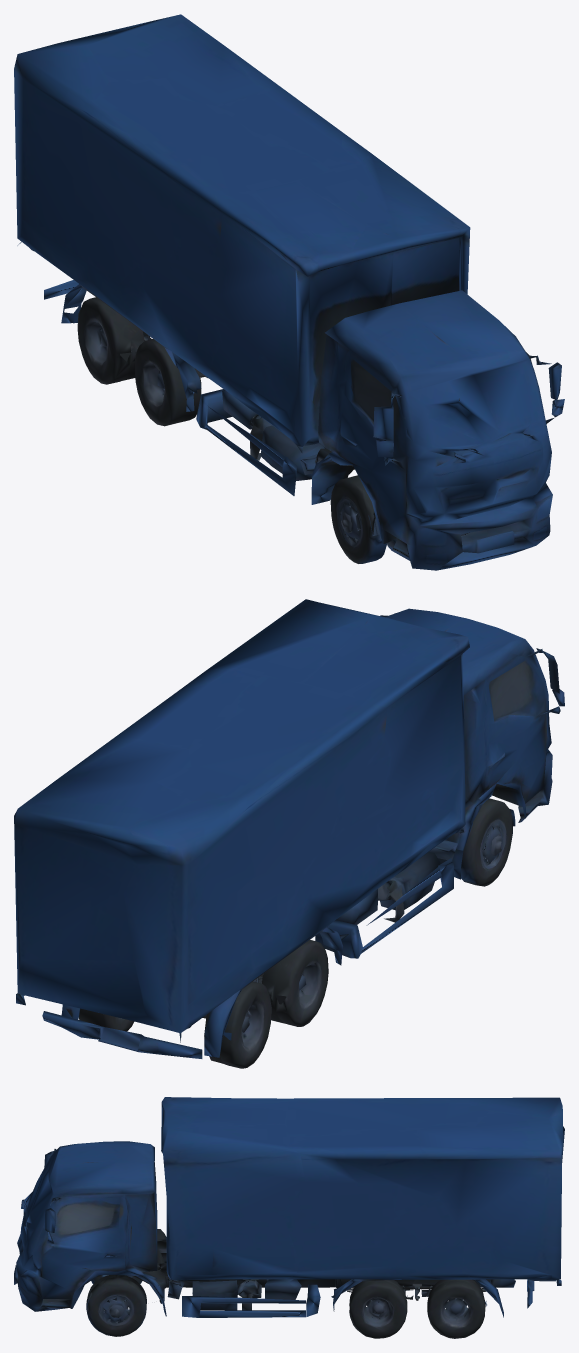
File: box-truck-lite.glb
3 views of the same model, one above another, from view 1: azimuth 30°, elevation 25°; view 2: azimuth 150°, elevation 25°; view 3: azimuth 270°, elevation 25° (orthographic). The views are drawn at different scales.
Parts seen in each view (by area): view 1: body, mesh_rl2, mesh_rl, mesh_fl; view 2: body, mesh_rl, mesh_fl, mesh_rl2, mesh_rr2; view 3: body, mesh_fr, mesh_rr2, mesh_rr.
Part boxes in pixels (<box>): body: <box>14,14,564,570</box>; mesh_rl2: <box>73,297,150,384</box>; mesh_rl: <box>134,339,201,426</box>; mesh_fl: <box>330,475,386,563</box>; body: <box>14,599,564,1058</box>; mesh_rl: <box>256,940,328,1026</box>; mesh_fl: <box>461,798,515,886</box>; mesh_rl2: <box>204,981,271,1068</box>; mesh_rr2: <box>79,1008,134,1031</box>; body: <box>14,1097,564,1317</box>; mesh_fr: <box>86,1275,146,1336</box>; mesh_rr2: <box>427,1279,486,1338</box>; mesh_rr: <box>349,1280,407,1338</box>.
Bounding box in the file's own units: 2.48 × 3.48 × 9.2.
Materials: 1 (1 with a texture image).
